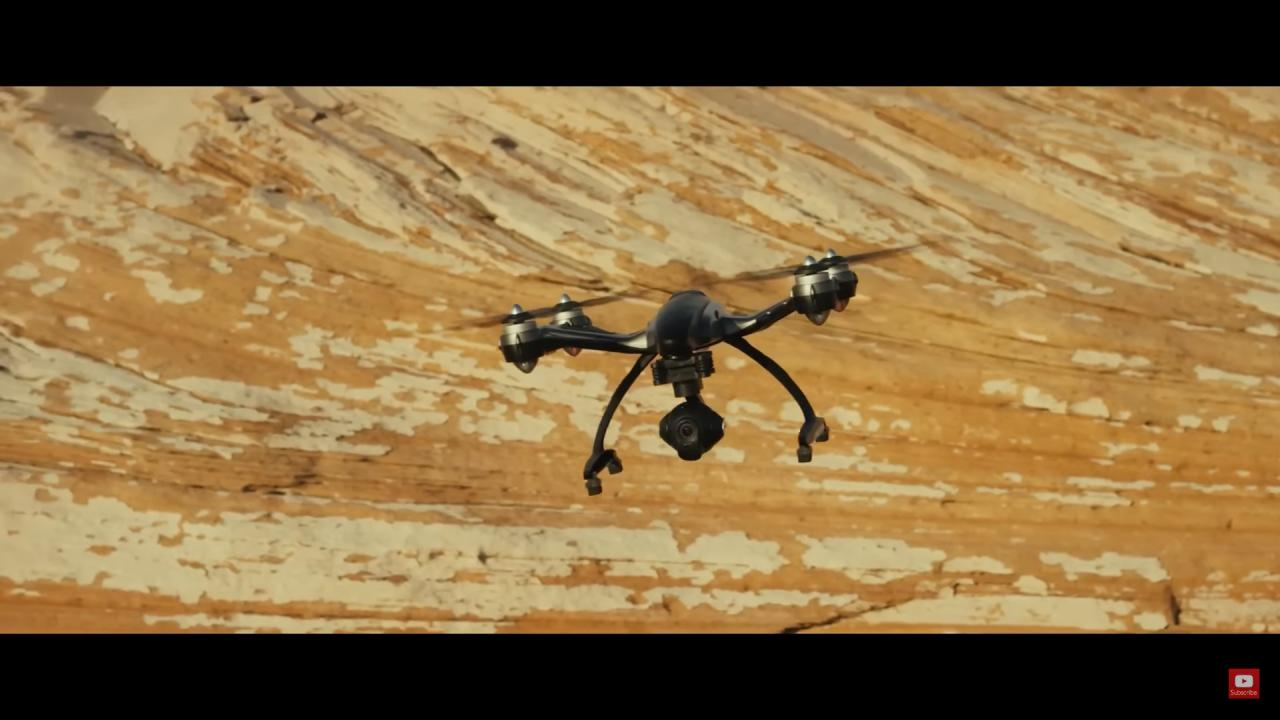Drone: (405, 223, 963, 516)
